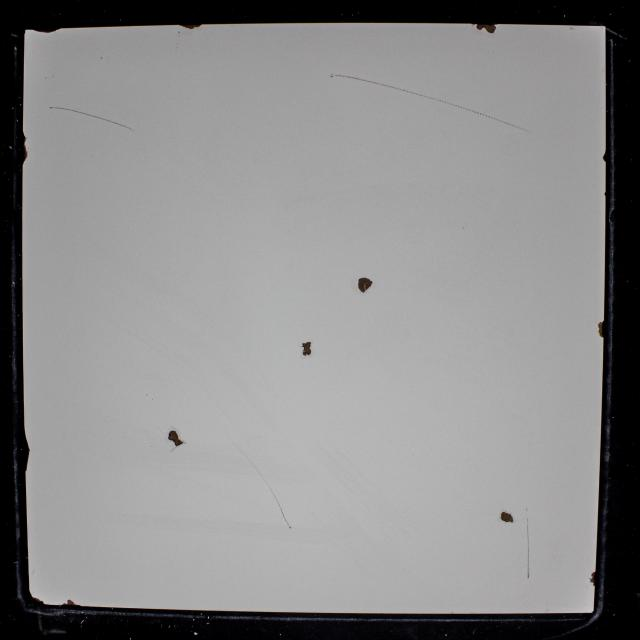edge-chipping: (23, 425, 30, 472), (476, 23, 497, 33), (178, 22, 203, 30), (61, 599, 82, 607), (21, 144, 28, 167), (32, 28, 62, 33), (597, 320, 605, 338), (30, 596, 45, 605), (589, 570, 596, 588), (21, 131, 27, 144), (602, 150, 606, 164)
hole: (167, 430, 184, 447), (358, 276, 373, 292), (301, 341, 312, 357), (500, 511, 514, 523)
line: (330, 73, 527, 130), (47, 102, 133, 131), (264, 483, 295, 530), (525, 517, 531, 580)
